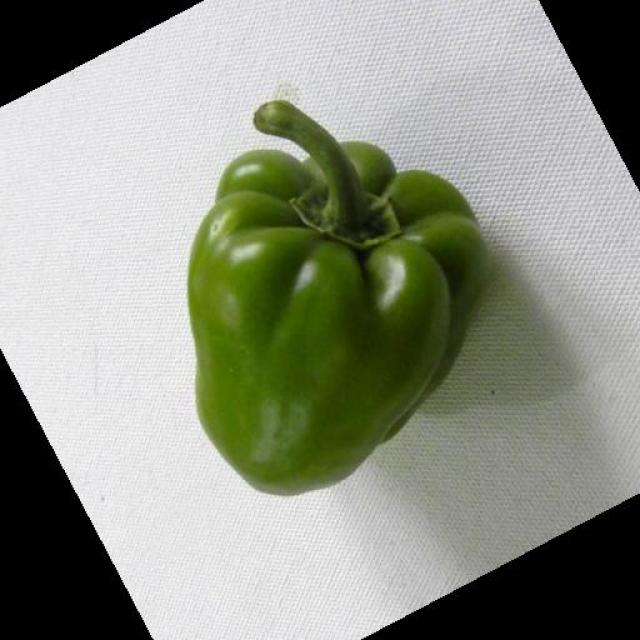Fresh_Capsicum: (193, 110, 502, 487)
